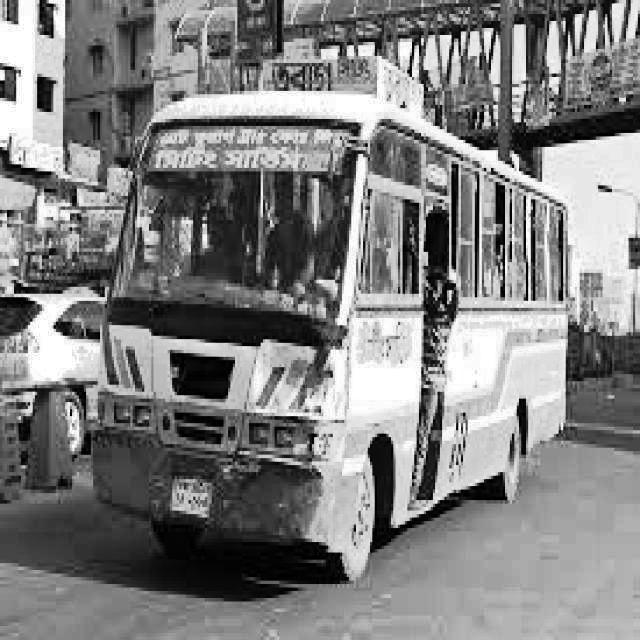Bus: (85, 58, 595, 595)
